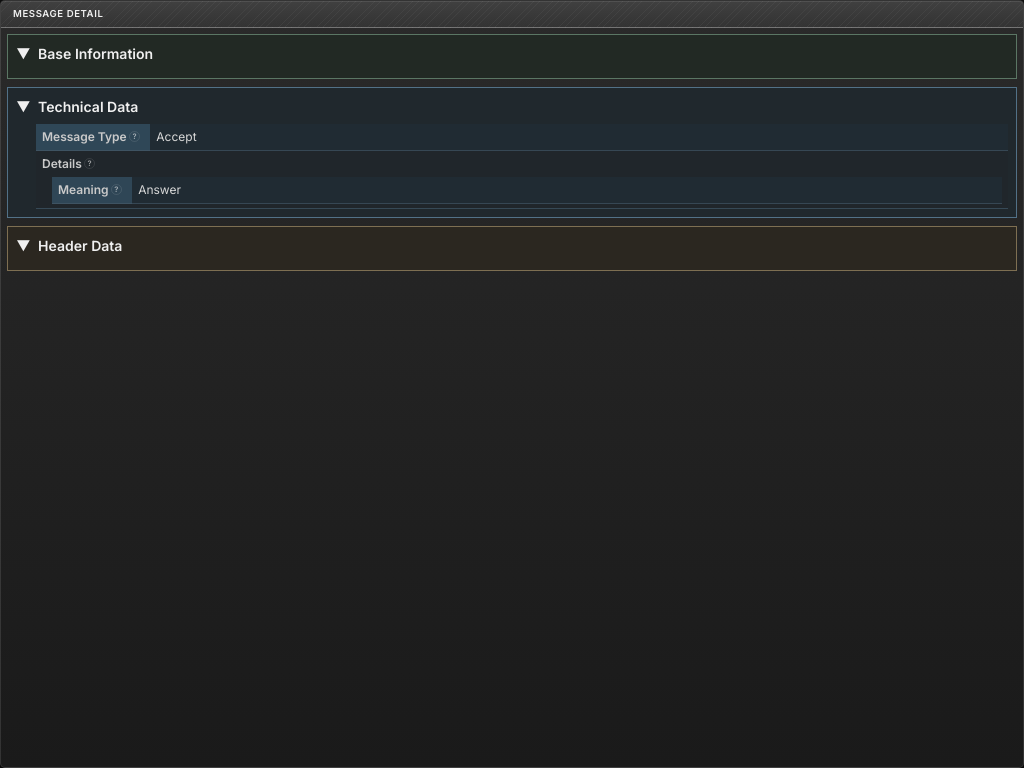
Test: DrpdMessageDetailInstrumentView › shows and dismisses field description popups
Click the button named "Show description for Message Type" at (134, 136), box [129,131,140,142]
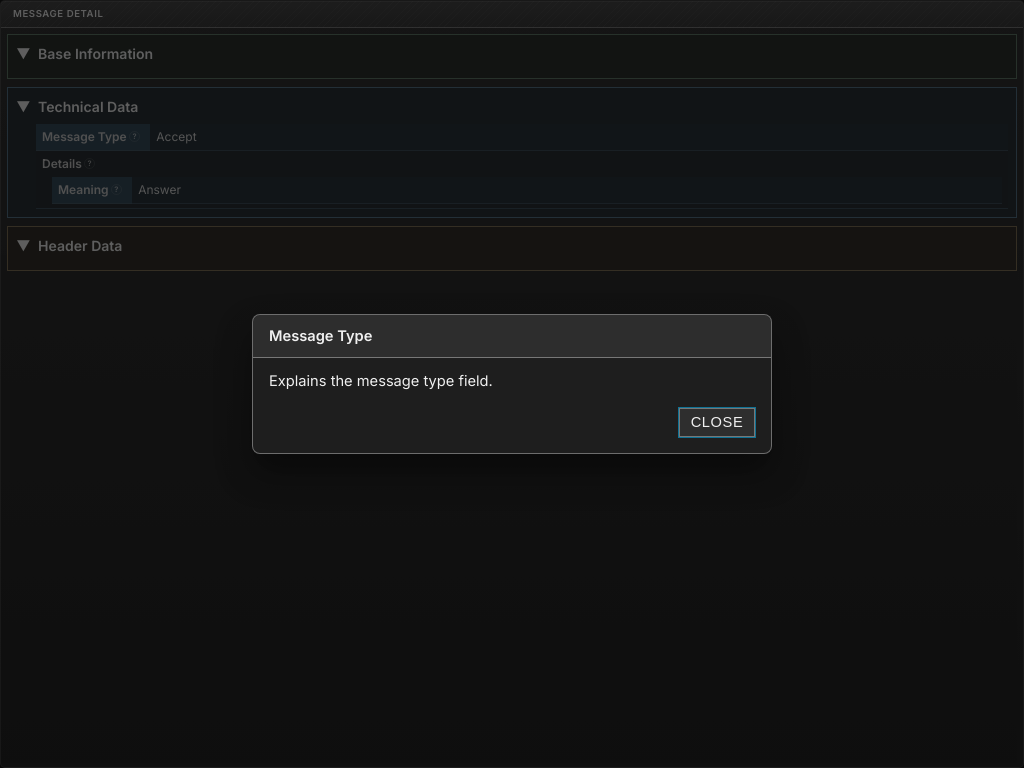
Expected: the text "Explains the message type field." is shown, [269,372,493,390]
Press Escape
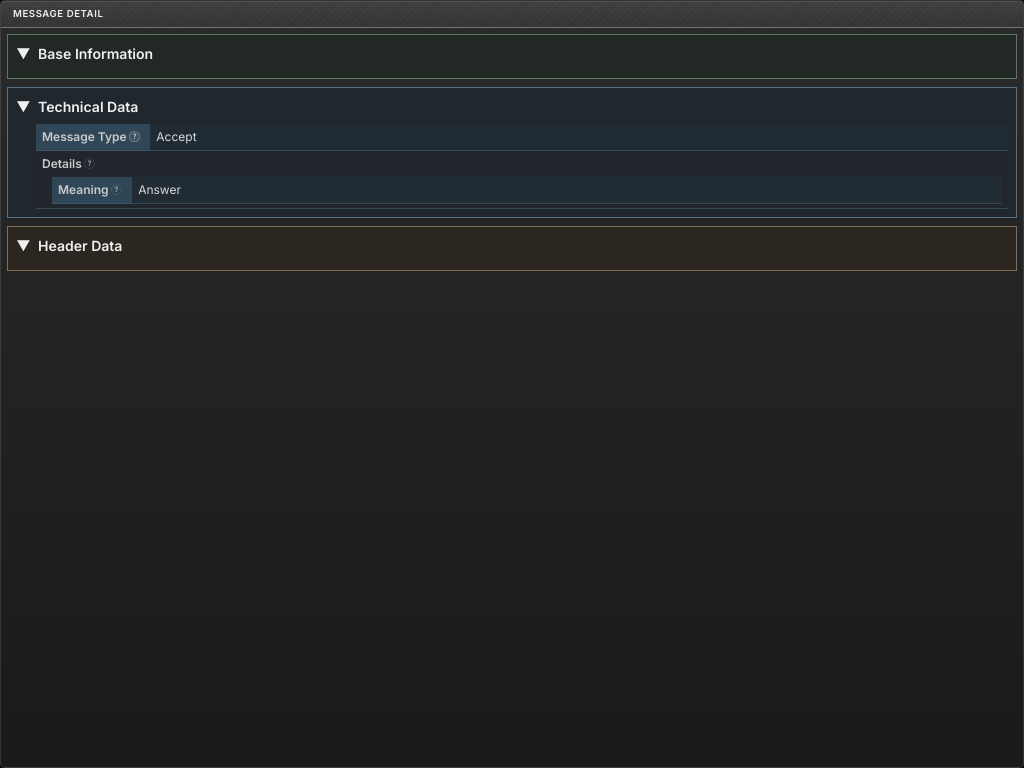
Expected: the text "Explains the message type field." is gone
Click the button named "Show description for Details" at (90, 164), box [84,158,95,169]
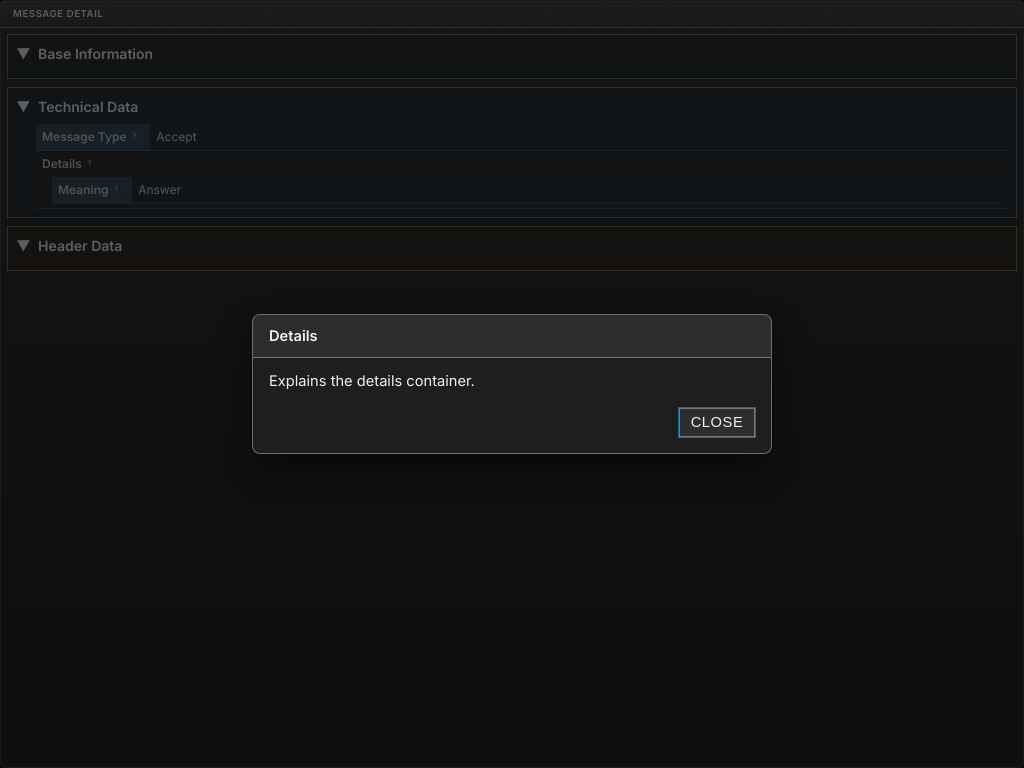
Expected: the text "Explains the details container." is shown, [269,372,475,390]
Click the element that starts with "MESSAGE DETAIL" at (512, 384), box [0,0,1023,767]
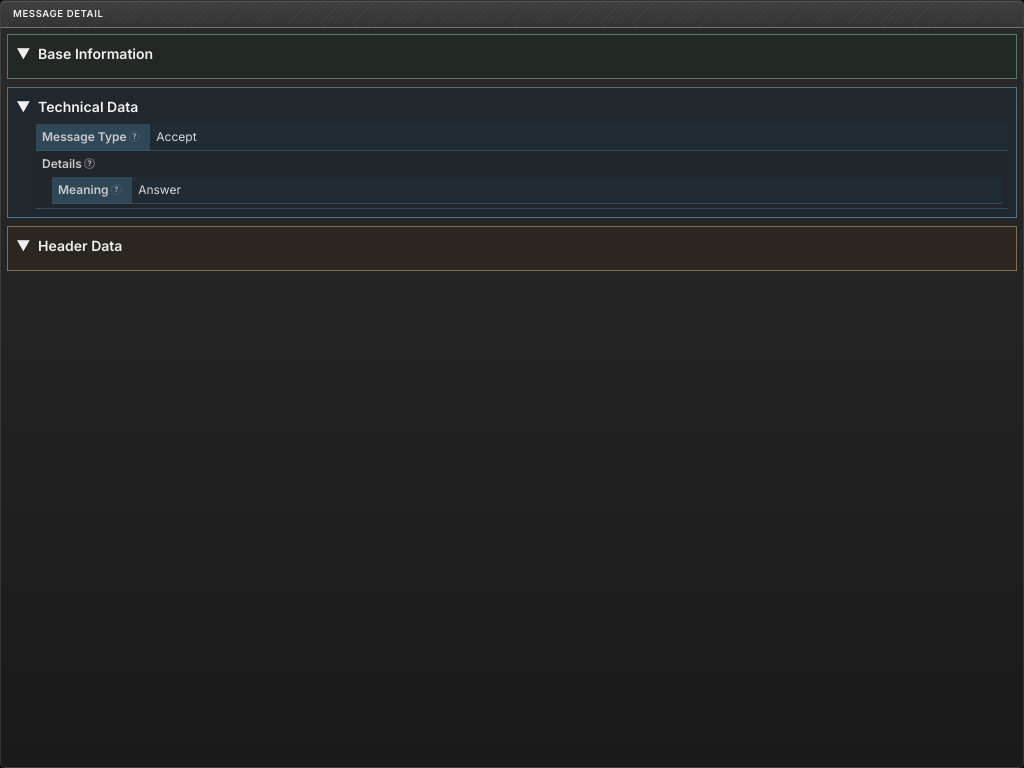
Expected: the text "Explains the details container." is gone
